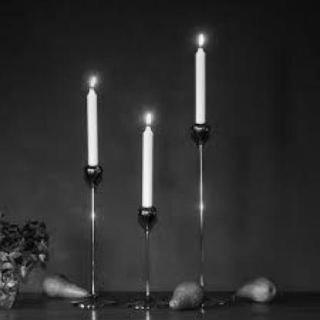Fire: (141, 109, 161, 131), (193, 30, 209, 50), (88, 71, 104, 88)
